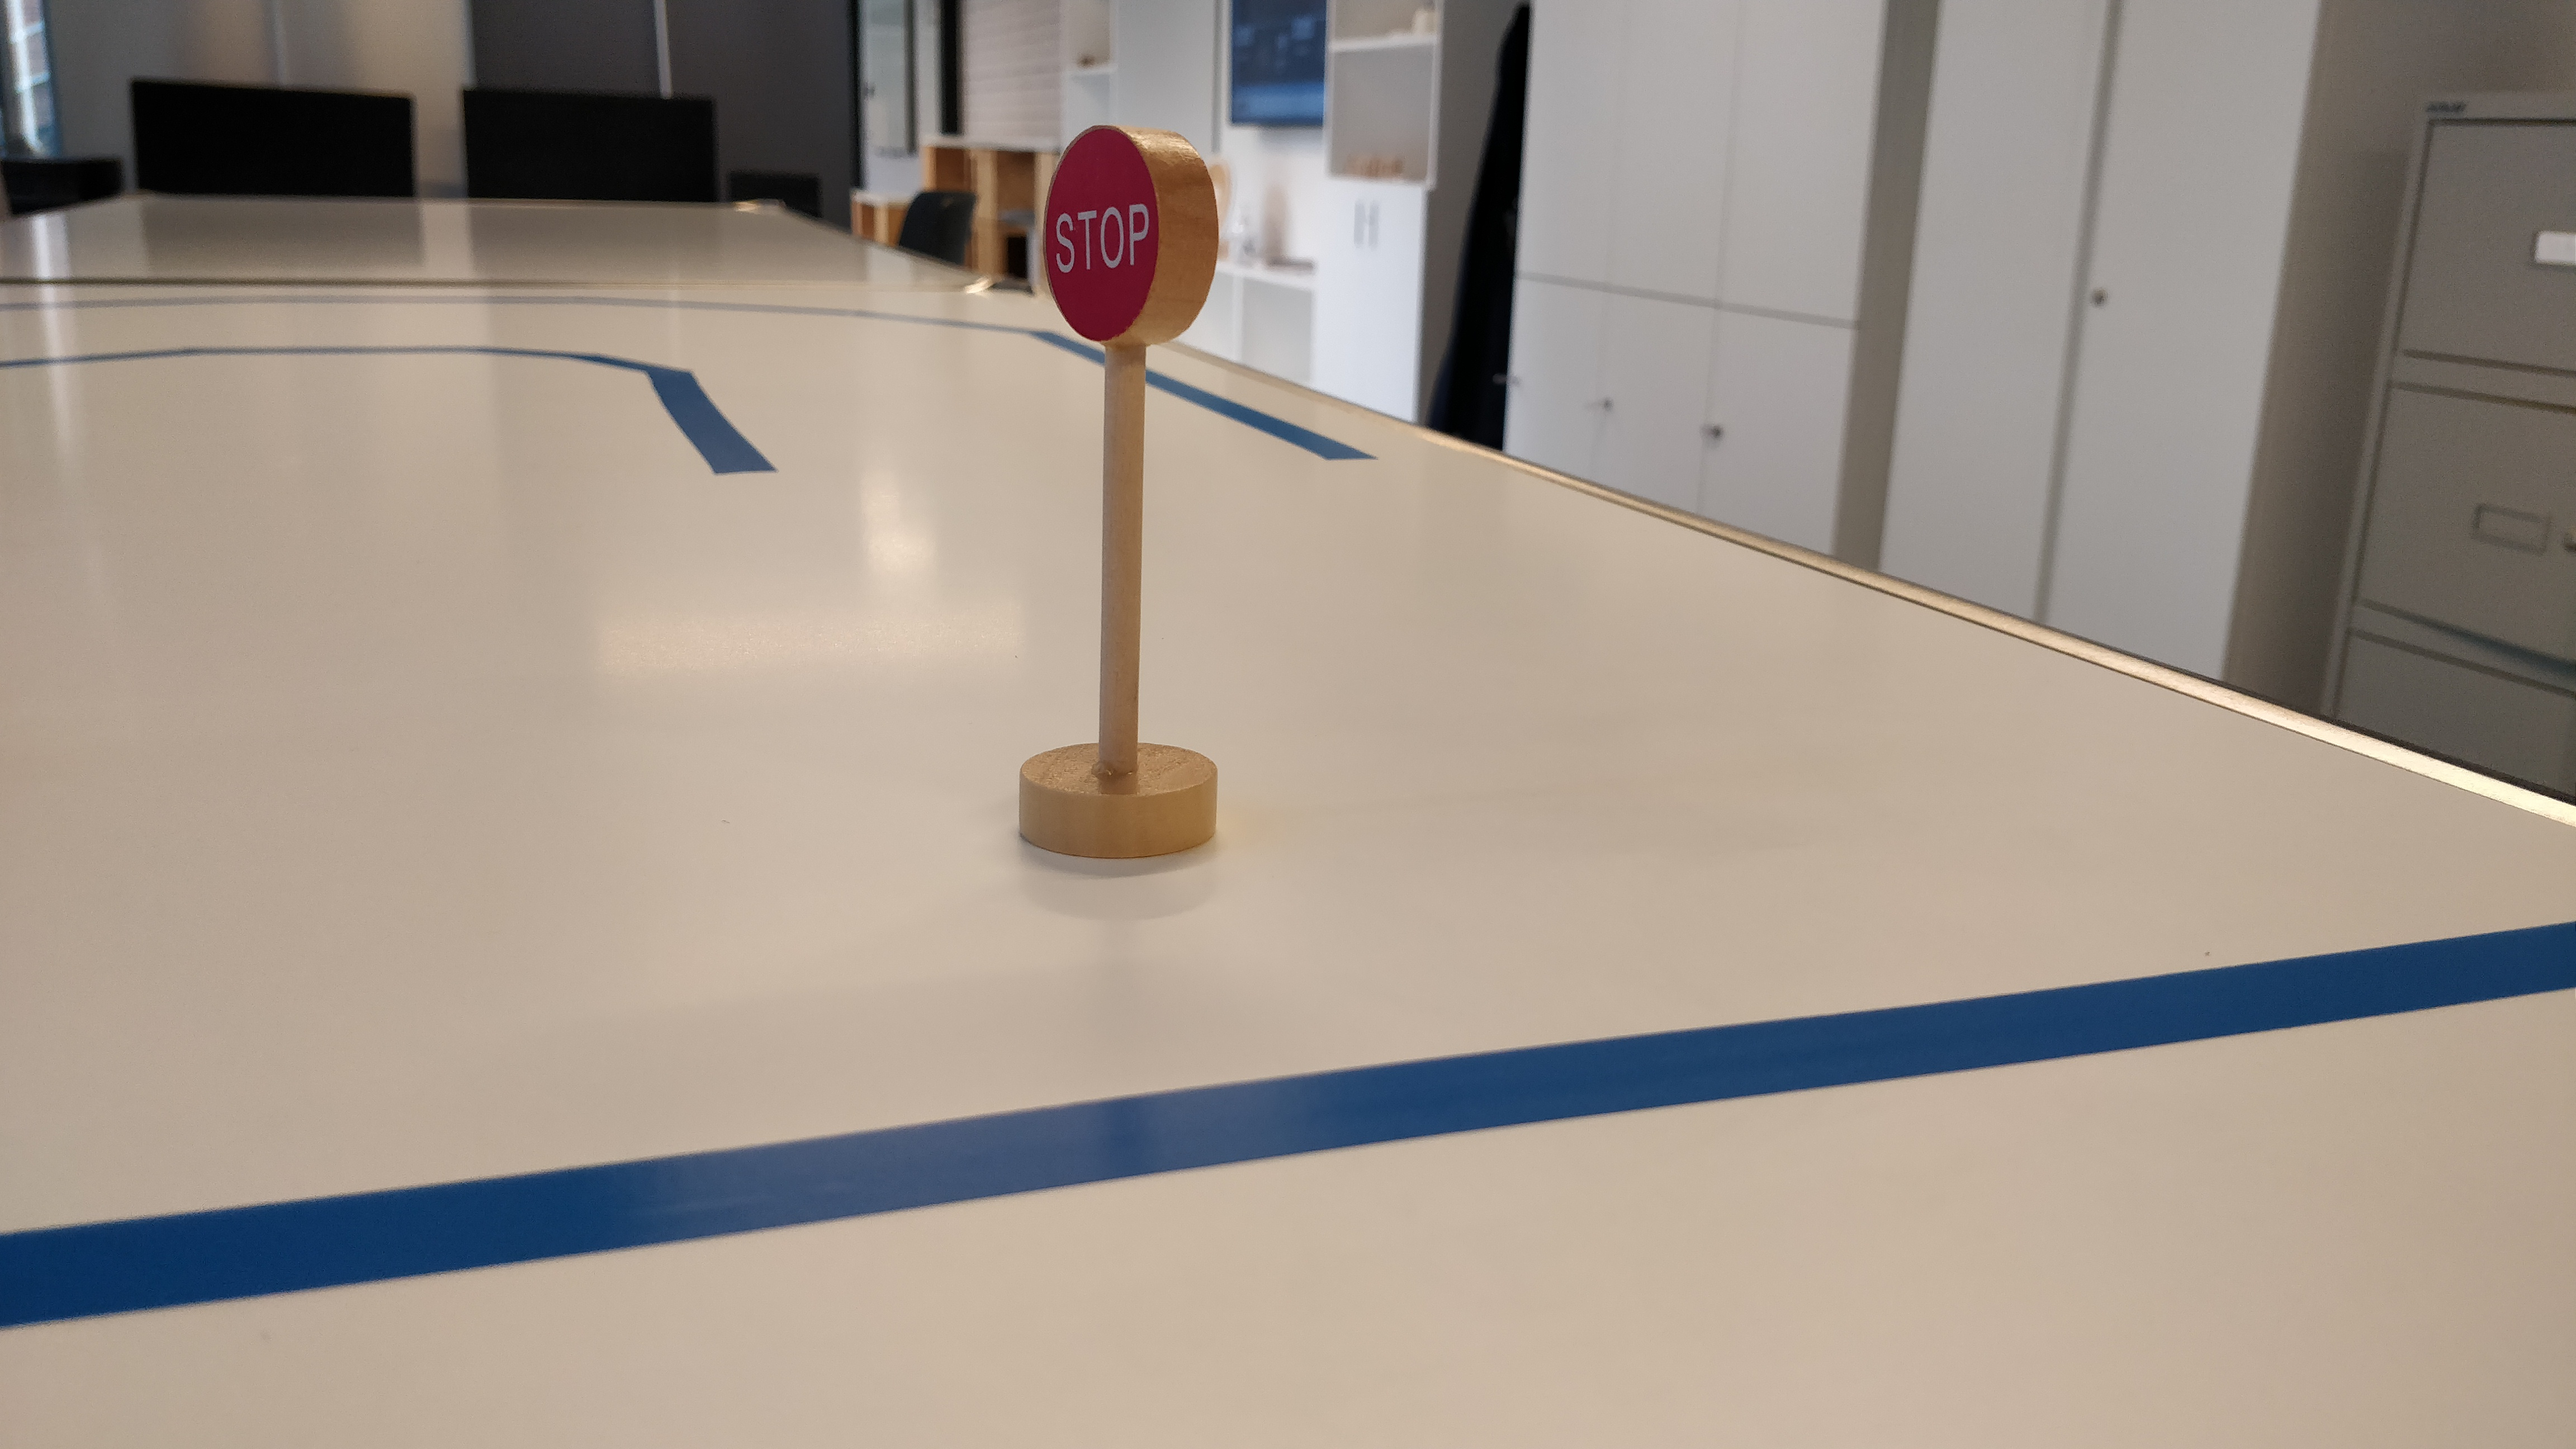Stop Sign: (1038, 120, 1225, 354)
